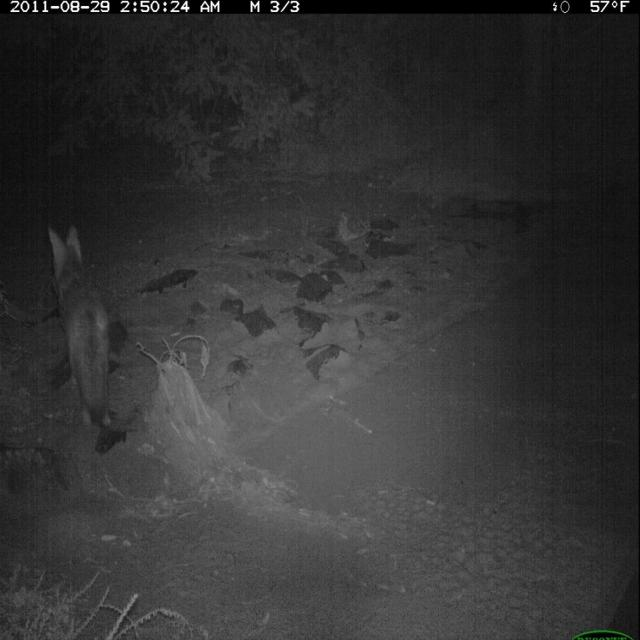coyote: (46, 220, 122, 439)
